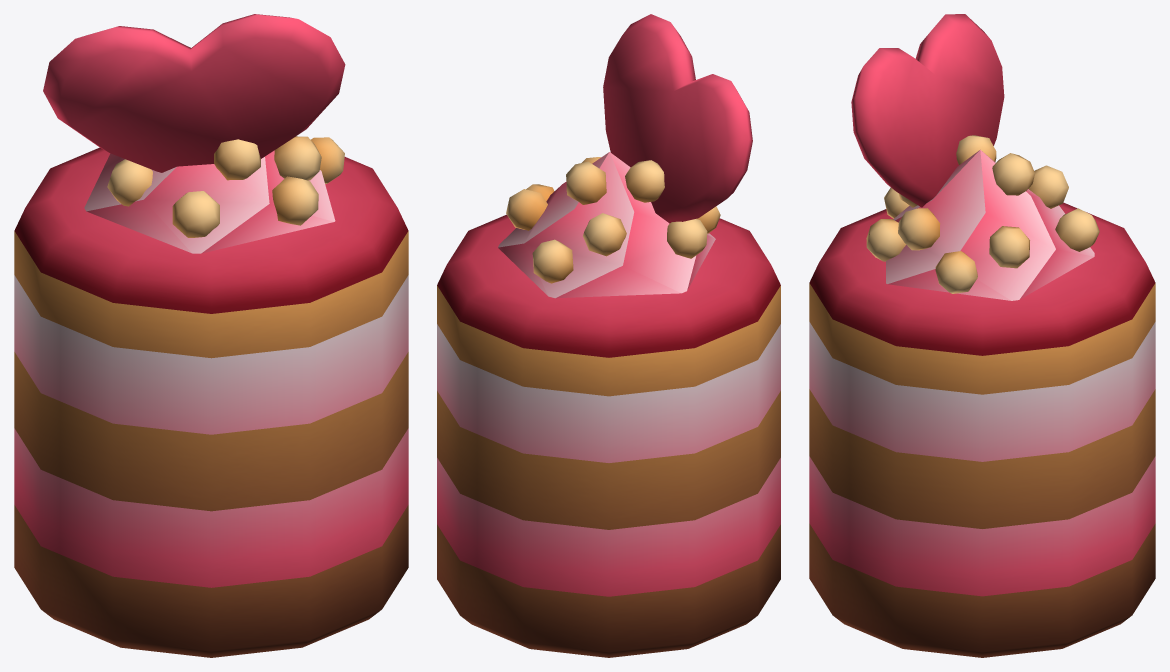
File: m_MiniCake09.fbx
3 renders of one model, left to right at view 1: azimuth 30°, elevation 25°; view 2: azimuth 150°, elevation 25°; view 3: azimuth 270°, elevation 25°, orthographic. The views are drawn at different scales.
Visible parts, largest first — view 1: m_MiniCake09; view 2: m_MiniCake09; view 3: m_MiniCake09.
Boxes of the visible parts, x1,y1,x2,y2 form: m_MiniCake09: (14,14,408,657); m_MiniCake09: (437,14,780,657); m_MiniCake09: (809,14,1155,657).
Bounding box in the file's own units: 11.34 × 19.43 × 11.34.
